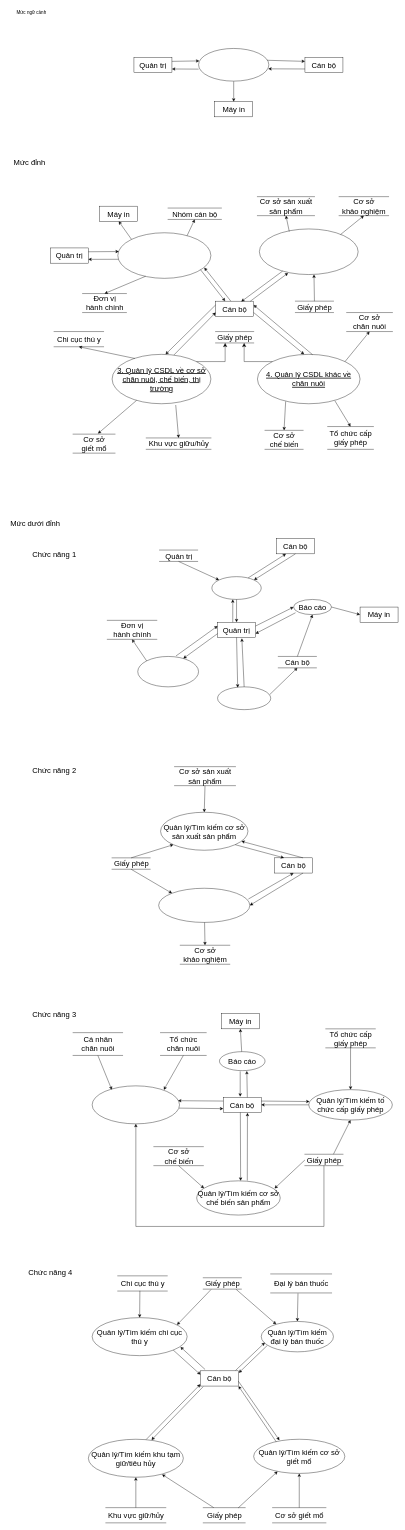
Some shapes in this 405 by 1530 pixel diagram are drawn without their labels. The shapes that lost their labels are listed below. From the top down, each one's box as (x1, y1, x2, y2) in pixels, then its label:
(198, 48, 269, 81): Hệ thống quản lý chăn nuôi
(117, 232, 211, 278): 1. Quản trị hệ thống
(259, 229, 358, 275): 2. Quản lýc CSDL về sản phẩm xử lý chất thải chăn nuôi
(211, 576, 261, 599): Đăng nhập/xuất
(137, 656, 199, 687): Quản lý đơn vị hành chính
(217, 686, 271, 710): Phân quyền
(158, 888, 250, 922): Quản lý/TÌm kiếm cơ sở khảo nghiệm
(92, 1085, 180, 1124): Quản lý/Tìm kiếm tổ chức, cá nhân chăn nuôi
